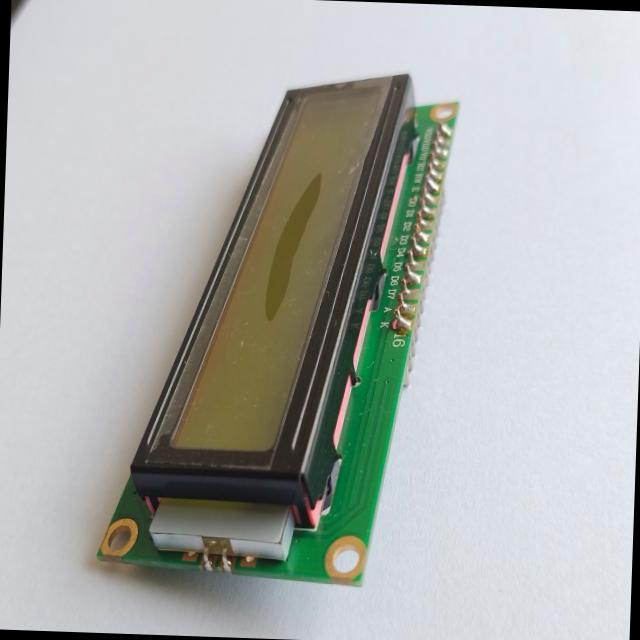lcd: (94, 61, 460, 590)
